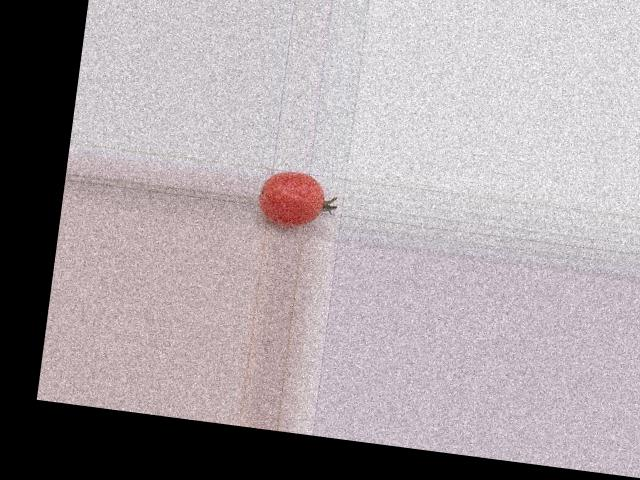tomato: (256, 167, 327, 229)
